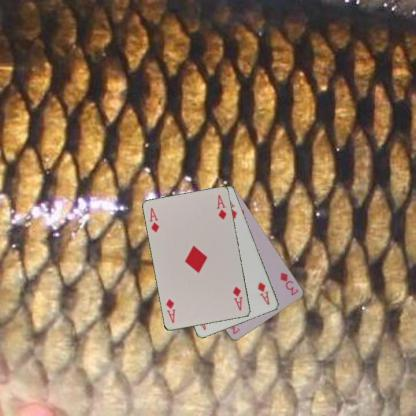3d: (278, 270, 300, 297)
Ad: (255, 280, 271, 307), (230, 284, 244, 312), (146, 206, 160, 233)
